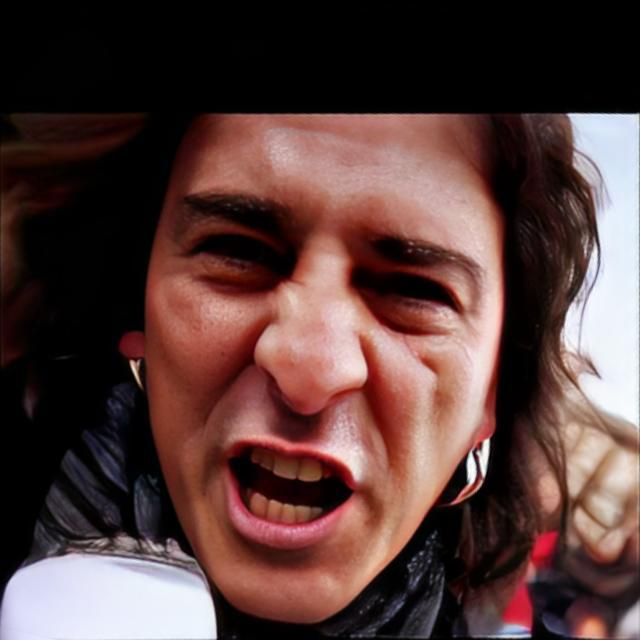anger: (151, 113, 507, 624)
